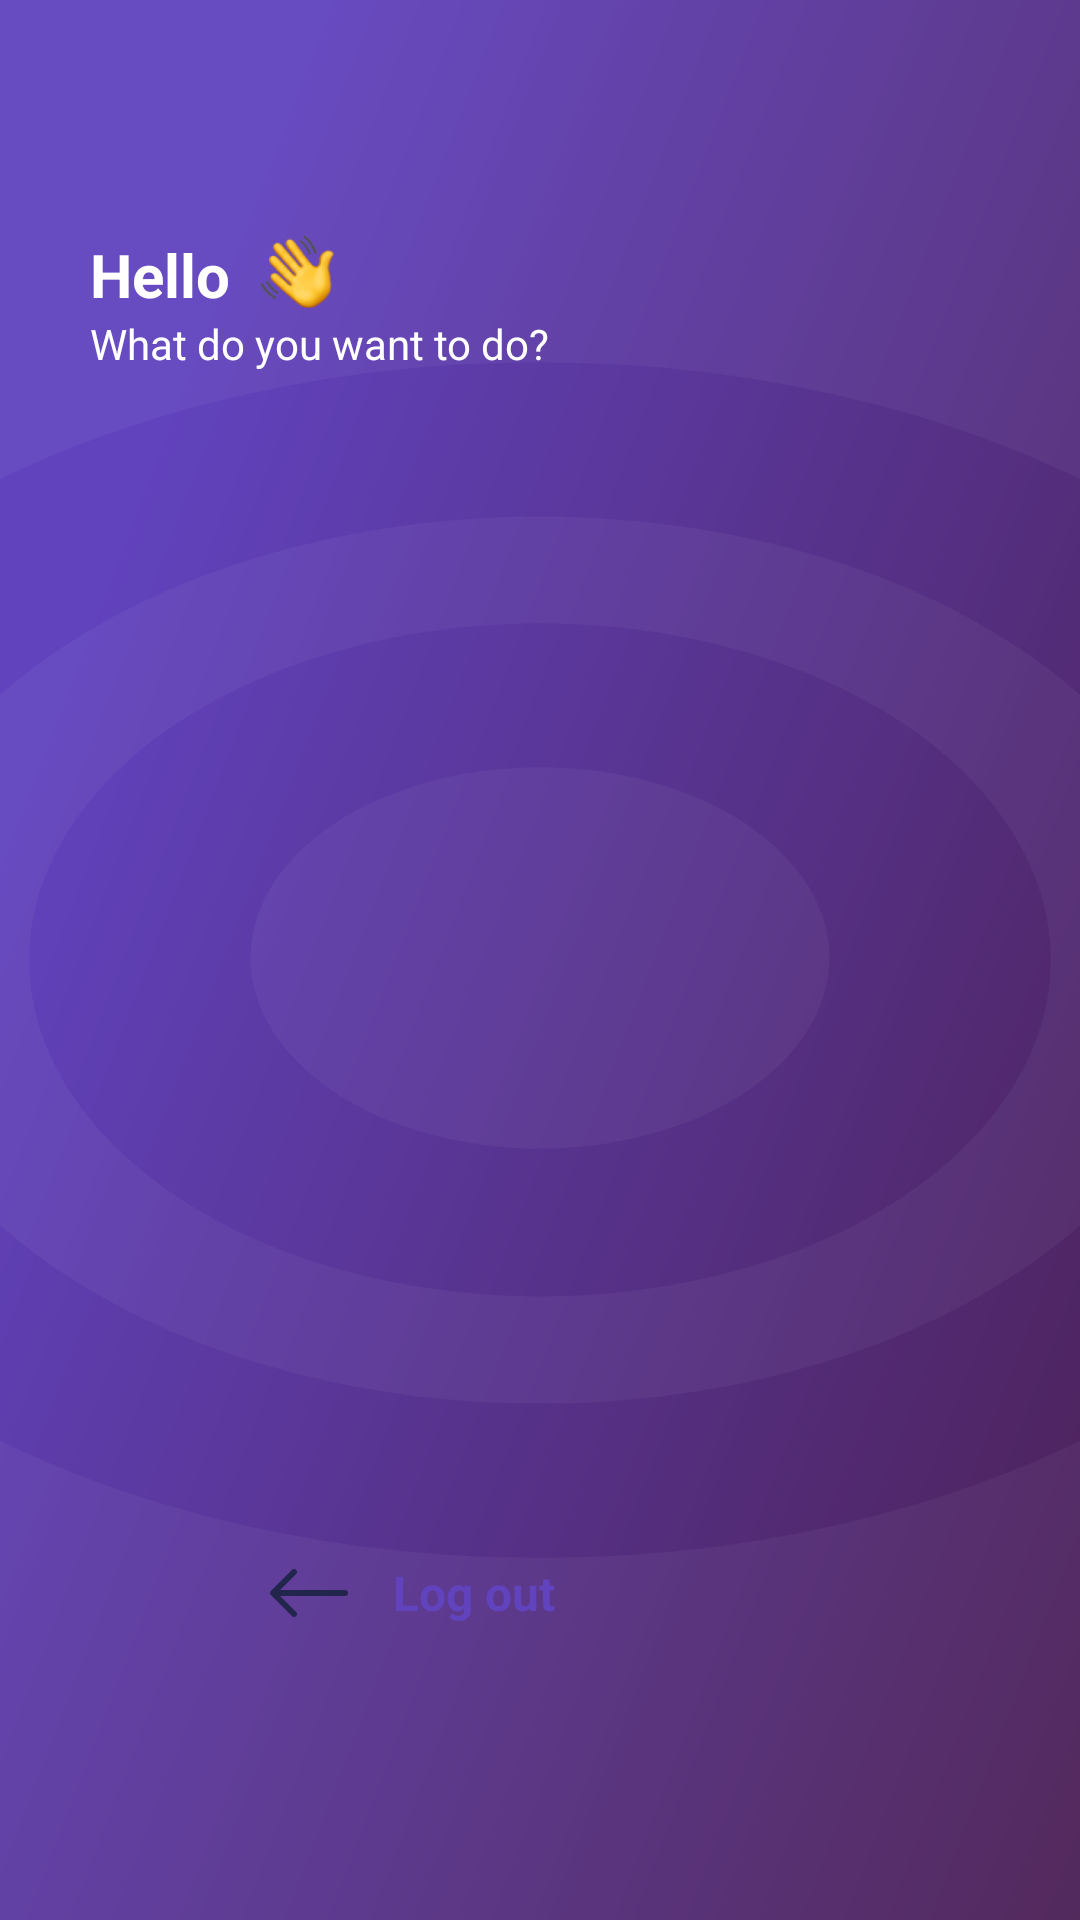

Screen size 1080*1920. Icon name, then its center in pixels as point (x, y):
arrow left: point (309, 1593)
hand: point (297, 271)
